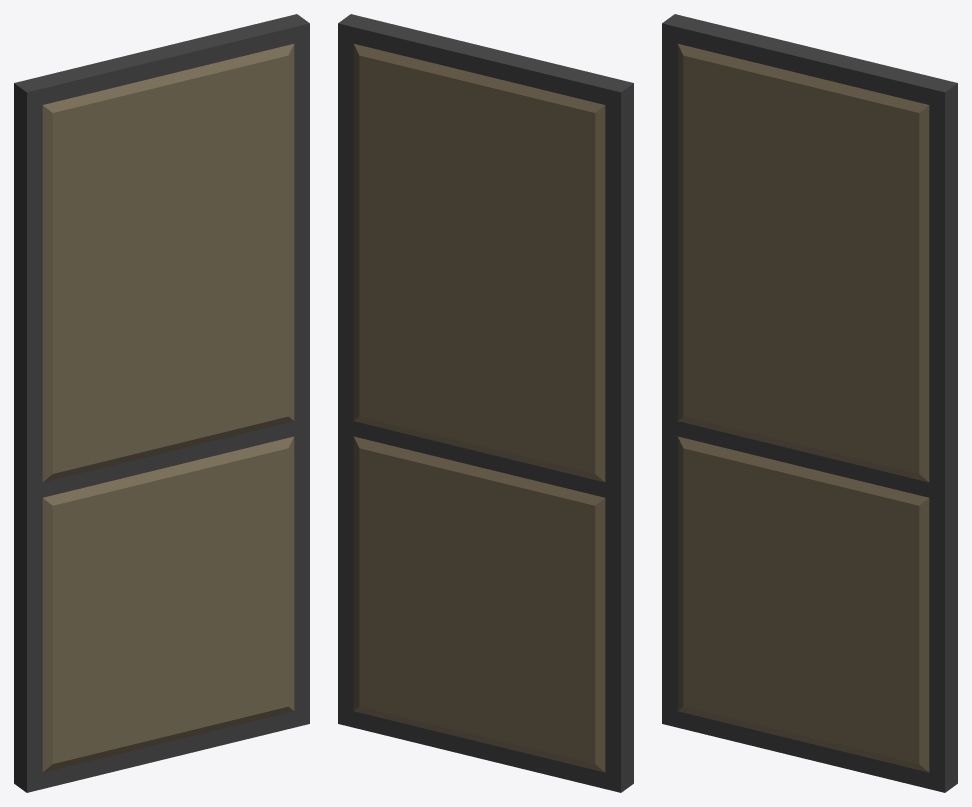
File: Cubical_Wall_002.FBX
3 views of the same model, side by side, from view 1: azimuth 30°, elevation 25°; view 2: azimuth 150°, elevation 25°; view 3: azimuth 330°, elevation 25° (orthographic).
Parts seen in each view (by area): view 1: Cubical_Wall_002; view 2: Cubical_Wall_002; view 3: Cubical_Wall_002.
Boxes of the visible parts, left/top/right/bottom form: Cubical_Wall_002: left=14, top=14, right=309, bottom=792; Cubical_Wall_002: left=338, top=14, right=633, bottom=792; Cubical_Wall_002: left=662, top=14, right=957, bottom=792.
Bounding box in the file's own units: 0.719 × 1.7 × 0.0764.
